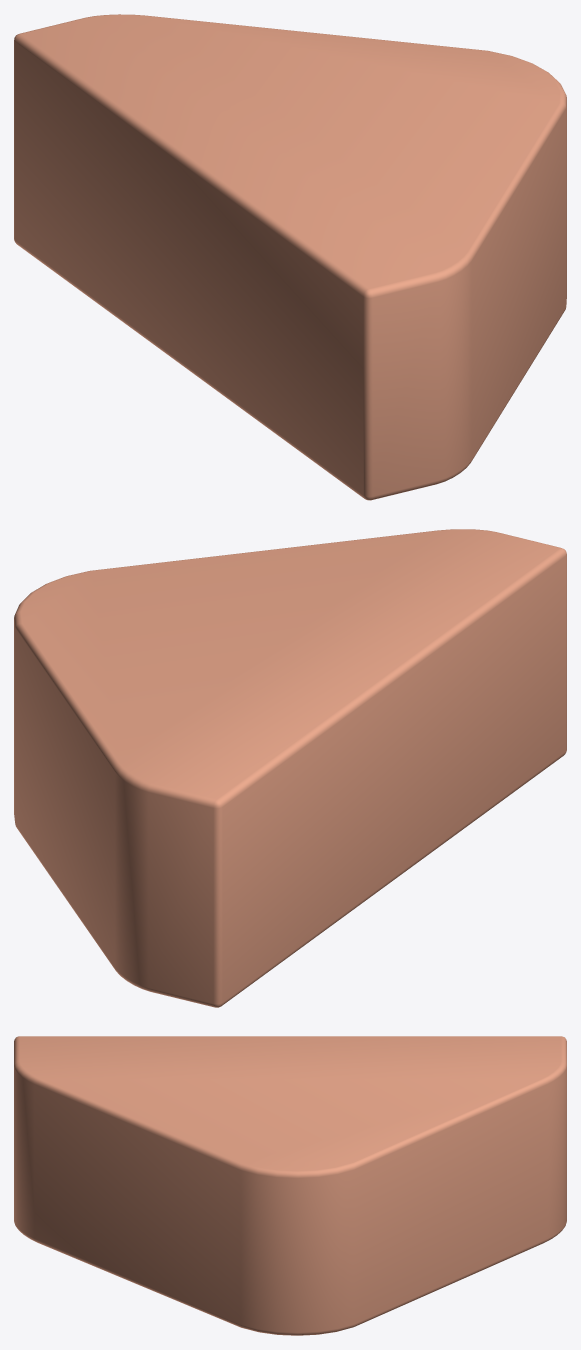
File: island_lv3_1.fbx
3 renders of one model, top to bottom at view 1: azimuth 30°, elevation 25°; view 2: azimuth 150°, elevation 25°; view 3: azimuth 270°, elevation 25°, orthographic. The views are drawn at different scales.
Parts seen in each view (by area): view 1: island_lv3_1; view 2: island_lv3_1; view 3: island_lv3_1.
Part boxes in pixels (bbox=[...]): island_lv3_1: bbox=[14, 14, 566, 500]; island_lv3_1: bbox=[14, 529, 566, 1007]; island_lv3_1: bbox=[14, 1036, 566, 1335].
Bounding box in the file's own units: 907 × 500 × 1526.
